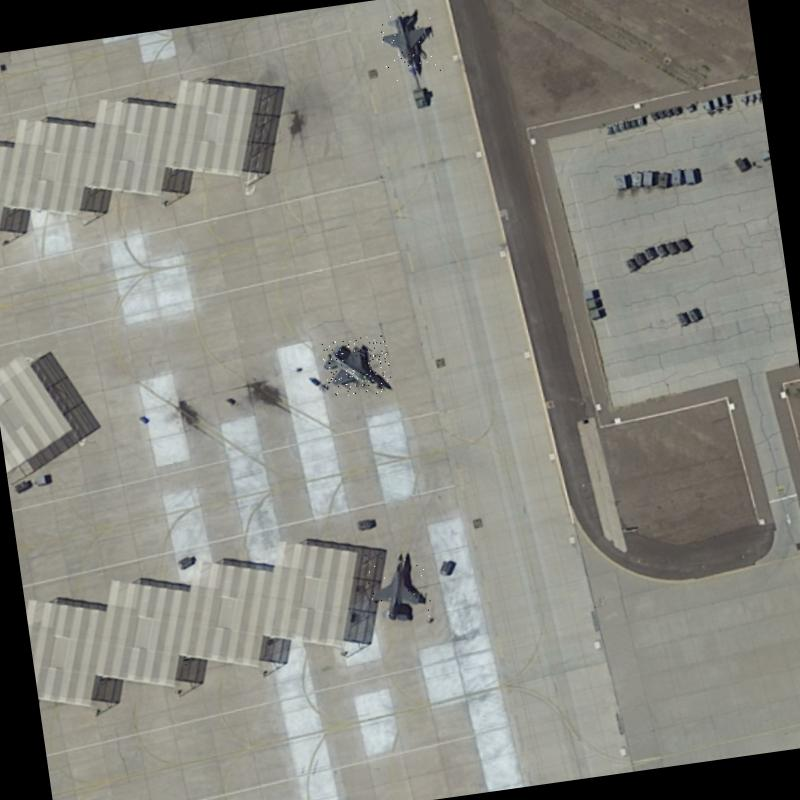A5: (362, 541, 432, 626), (377, 6, 441, 82), (320, 334, 392, 400)
